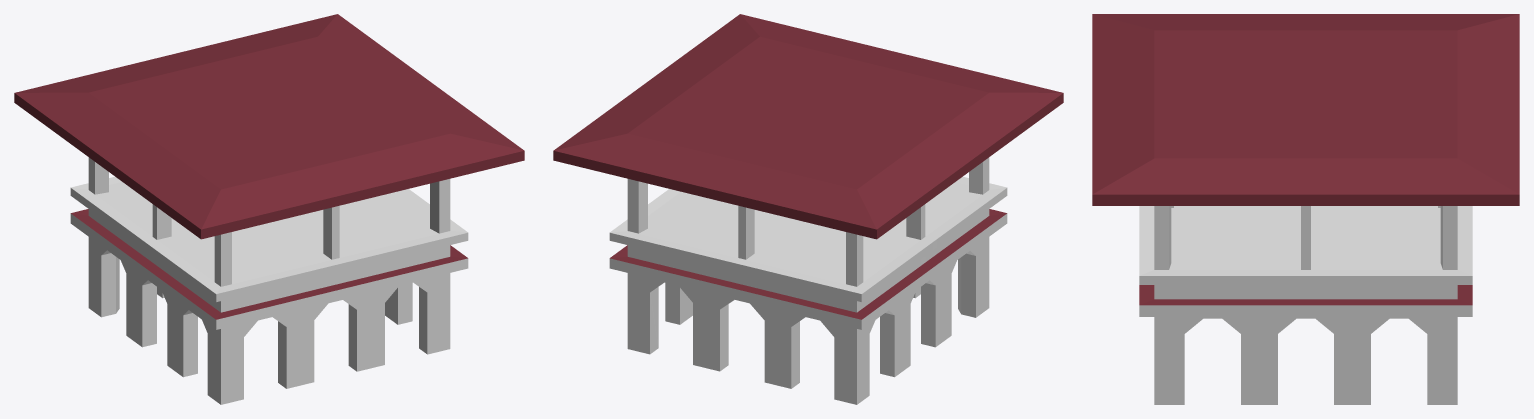
The model's file is House_6_TEX.fbx.
The picture shows the model from 3 angles, left to right: view 1: azimuth 30°, elevation 25°; view 2: azimuth 150°, elevation 25°; view 3: azimuth 270°, elevation 25°; orthographic projection. The views are drawn at different scales.
Parts seen in each view (by area): view 1: Cube.001, Cube.002; view 2: Cube.001, Cube.002; view 3: Cube.001, Cube.002.
Part boxes in pixels (x1,y1,x2,y2): Cube.001: [14, 14, 524, 312]; Cube.002: [70, 209, 468, 404]; Cube.001: [553, 14, 1063, 312]; Cube.002: [609, 209, 1007, 404]; Cube.001: [1092, 14, 1519, 299]; Cube.002: [1139, 285, 1472, 404].
Bounding box in the file's own units: 2200 × 1400 × 2200.
